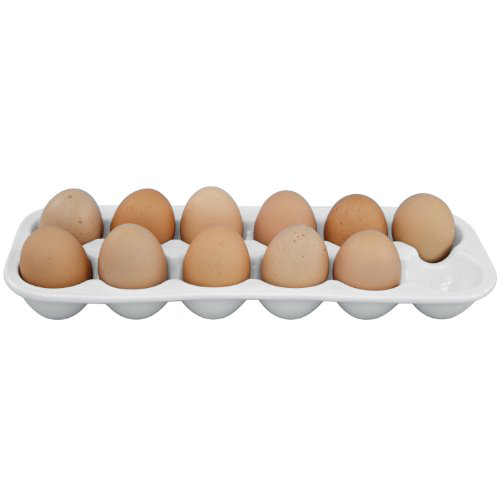egg: (13, 184, 466, 302)
